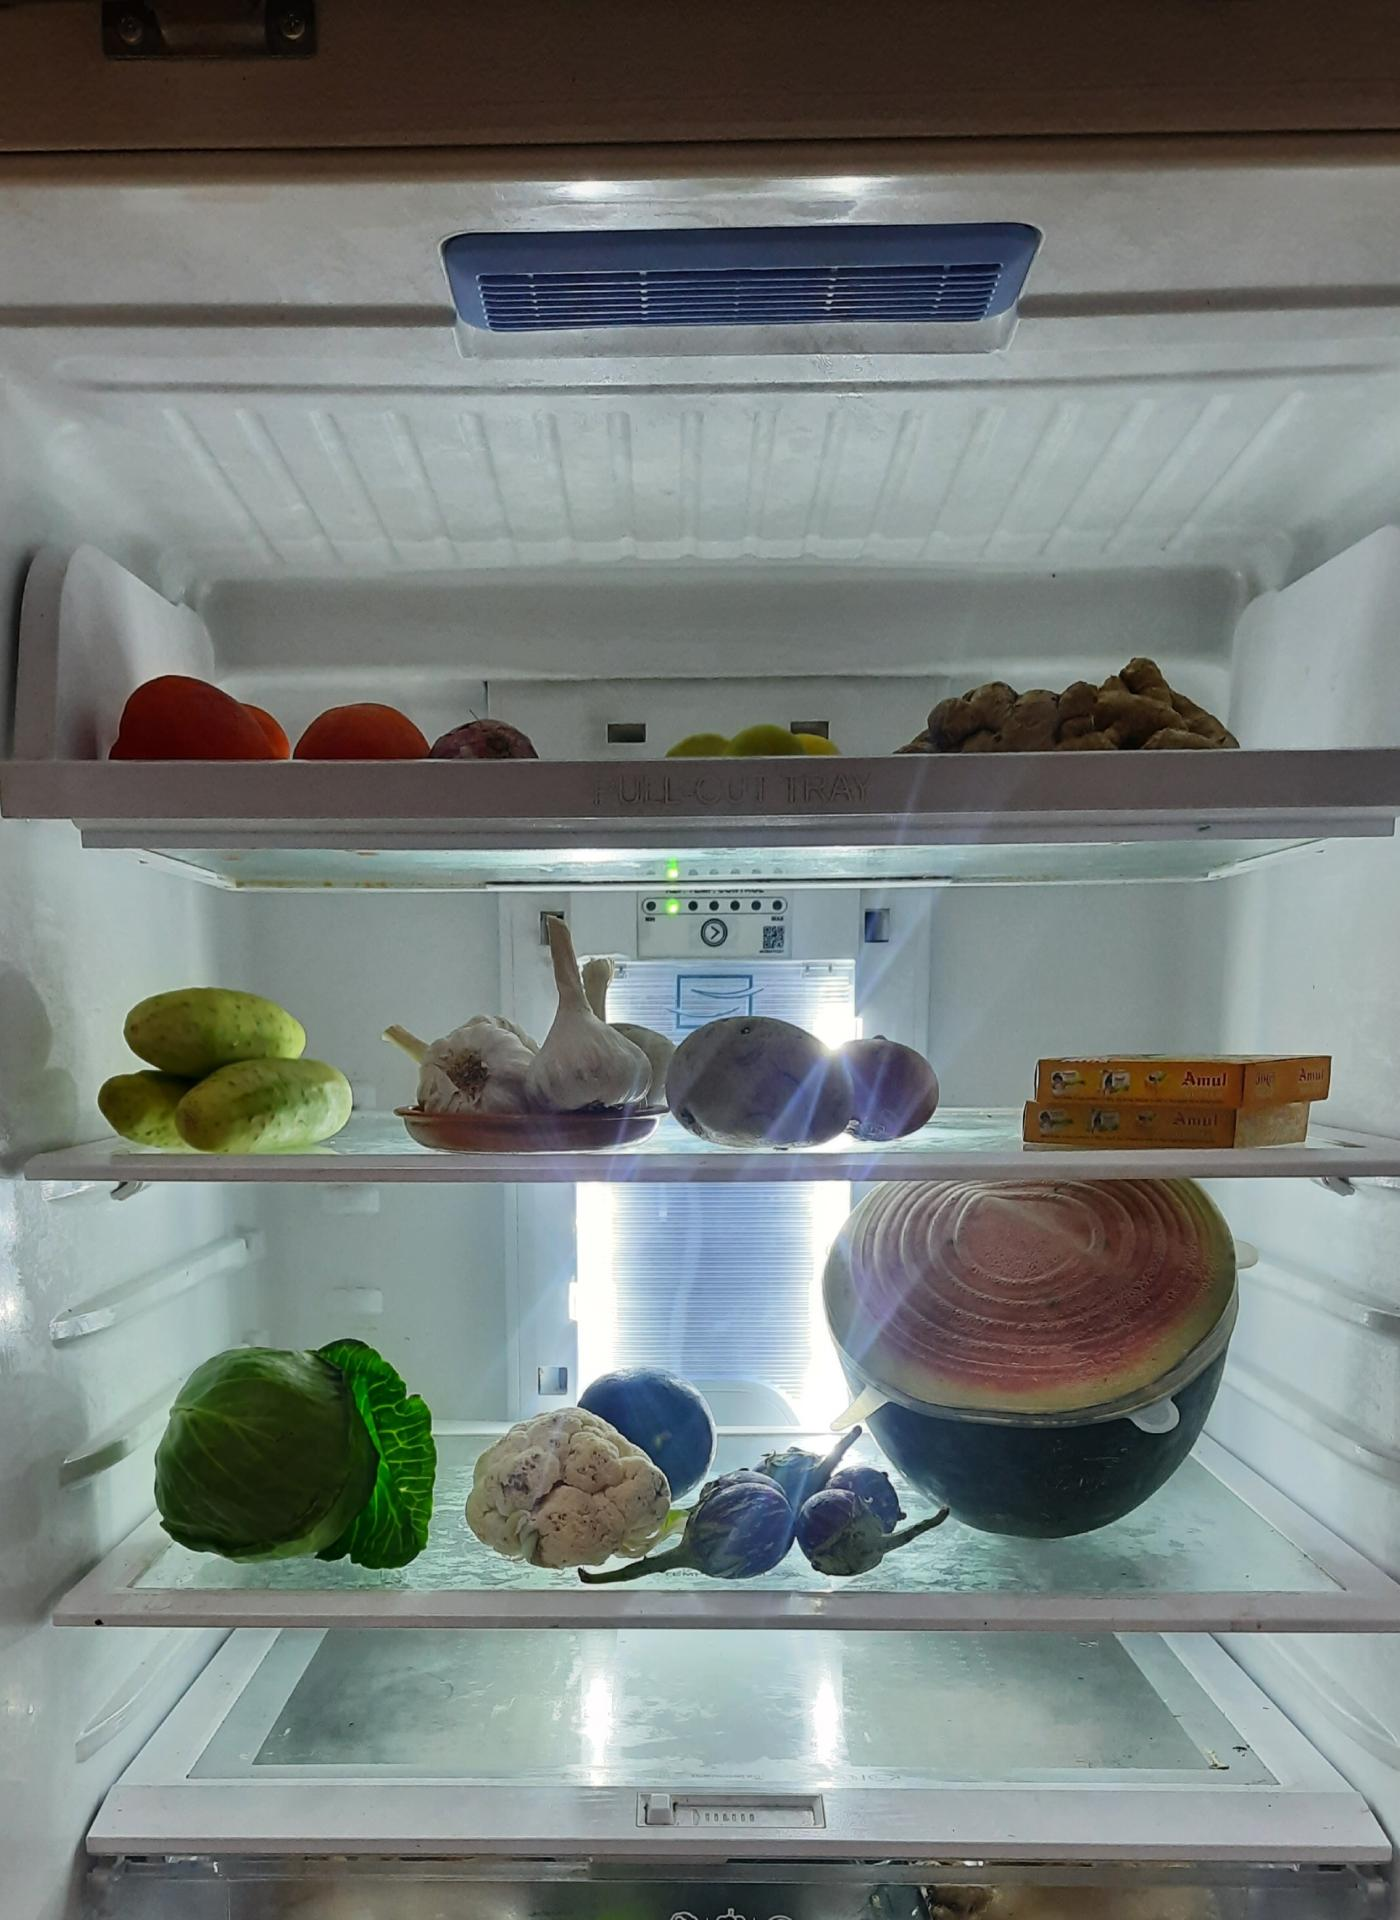brinjal: (690, 1449, 920, 1577), (581, 1367, 722, 1489)
butter: (1020, 1045, 1339, 1149)
cabbage: (149, 1334, 431, 1567)
cauliflower: (468, 1409, 672, 1570)
cucumber: (94, 976, 356, 1149)
garlic: (379, 912, 668, 1122)
ginger: (895, 651, 1249, 751)
lemon: (671, 727, 842, 759)
potato: (672, 1003, 944, 1145)
tomato: (110, 657, 544, 759)
watermelon: (824, 1170, 1255, 1531)
